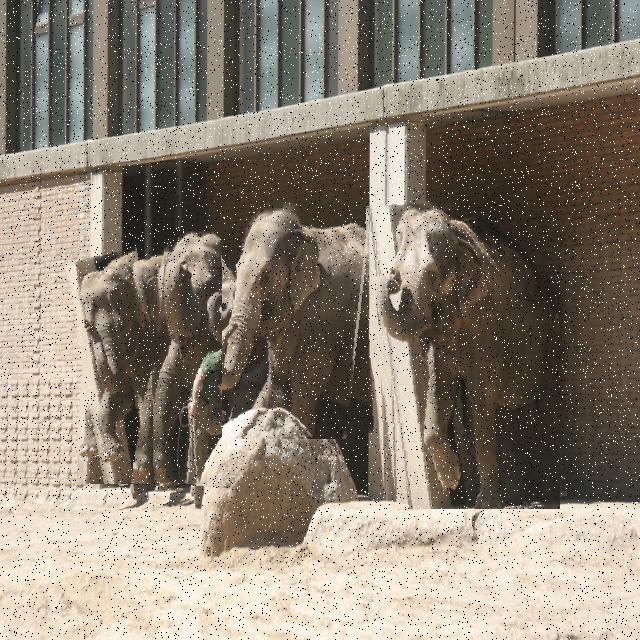elephant: (374, 192, 560, 509), (222, 205, 372, 439), (150, 231, 247, 486), (77, 249, 178, 484), (206, 279, 281, 370)
